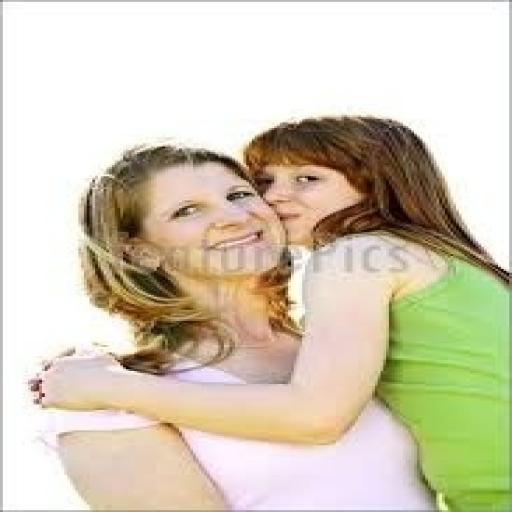hugging: (25, 113, 509, 510)
